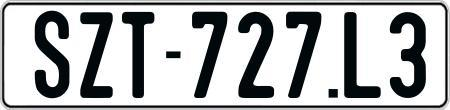2: (237, 9, 276, 99)
3: (390, 11, 428, 97)
7: (285, 9, 325, 101), (190, 12, 228, 100)
L: (343, 12, 382, 103)
S: (33, 9, 67, 102)
T: (119, 11, 157, 99)
Z: (80, 9, 118, 101)
